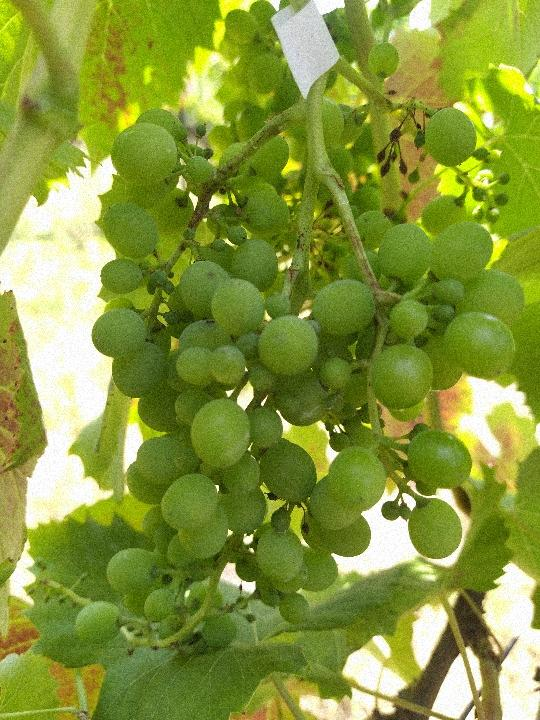grape: (69, 37, 525, 668)
